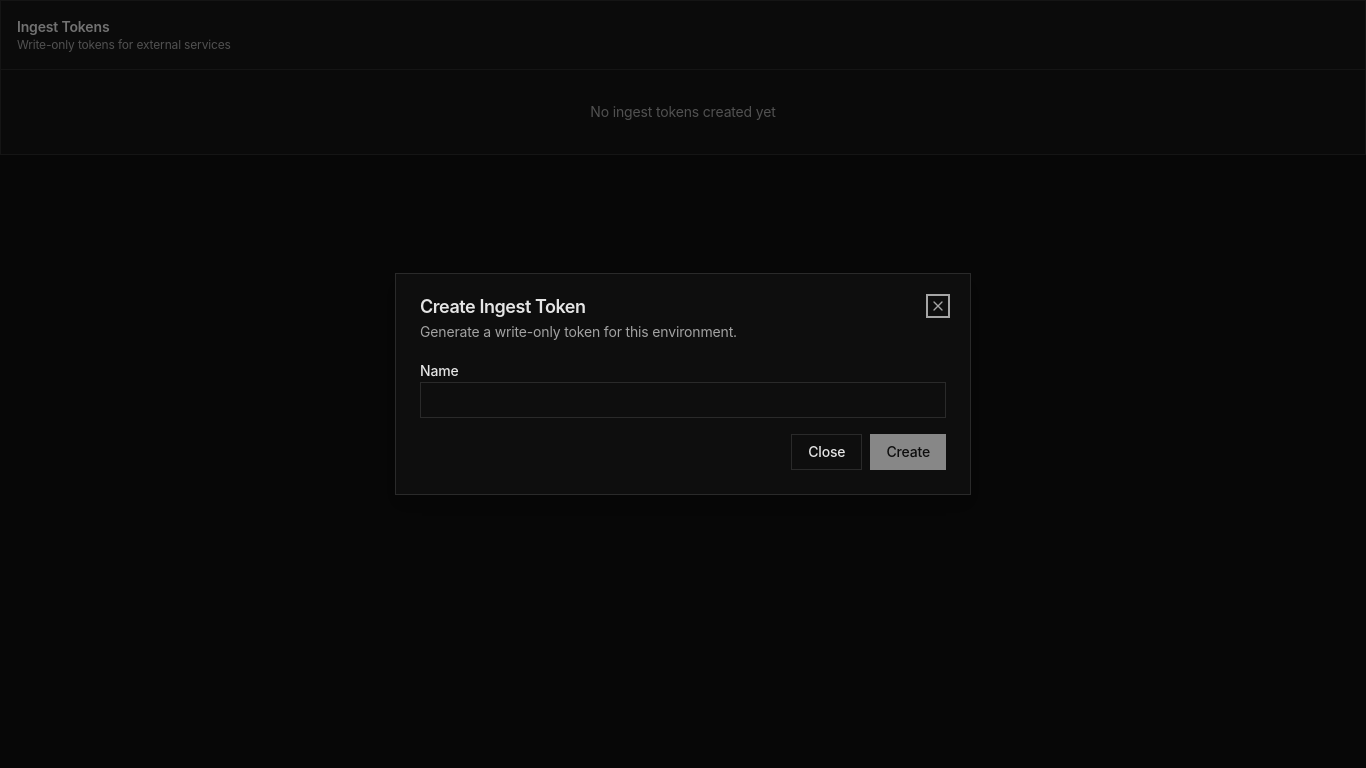
Test: Logging UI › shows a newly created ingest token once
Type "demo" into the field labelled "Name" at (683, 400), box 420,382 -> 946,418
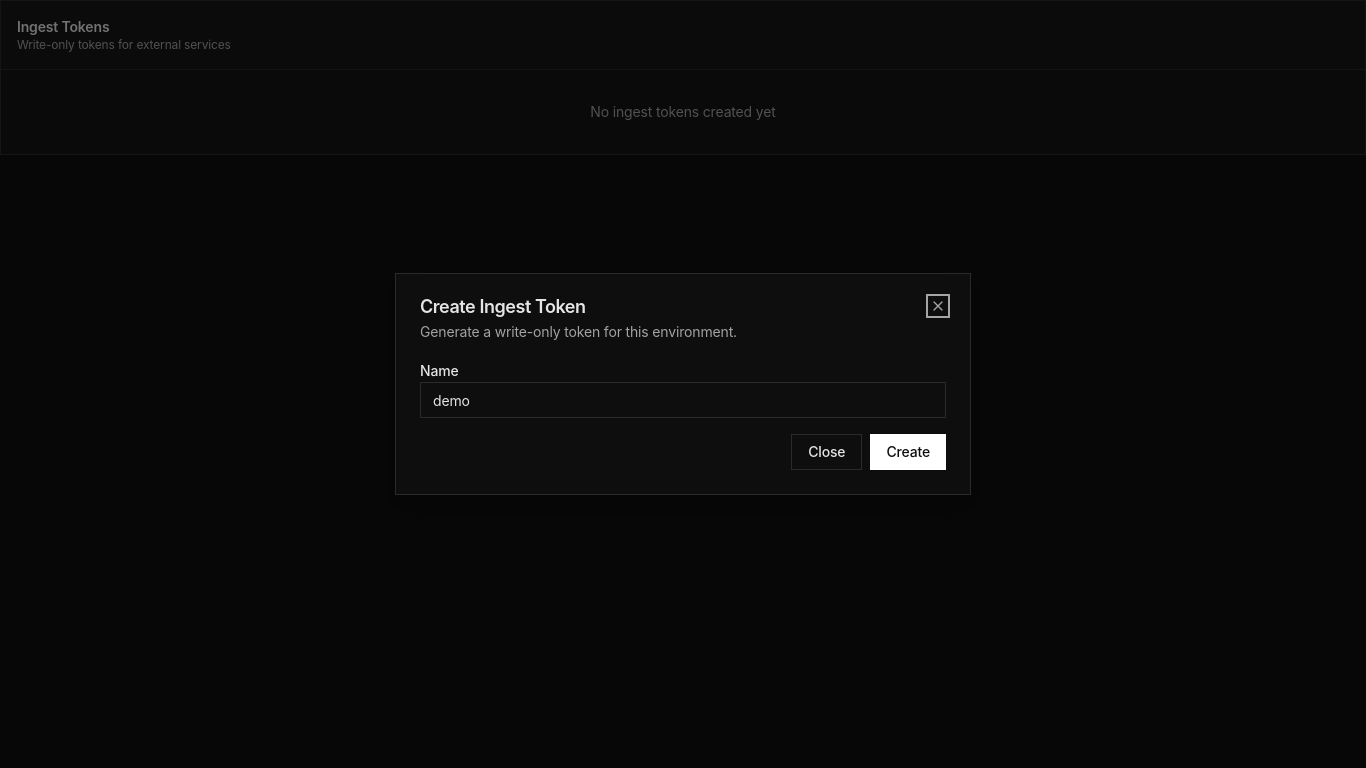
Click the button "Create" at (908, 452), box 870,434 -> 946,470
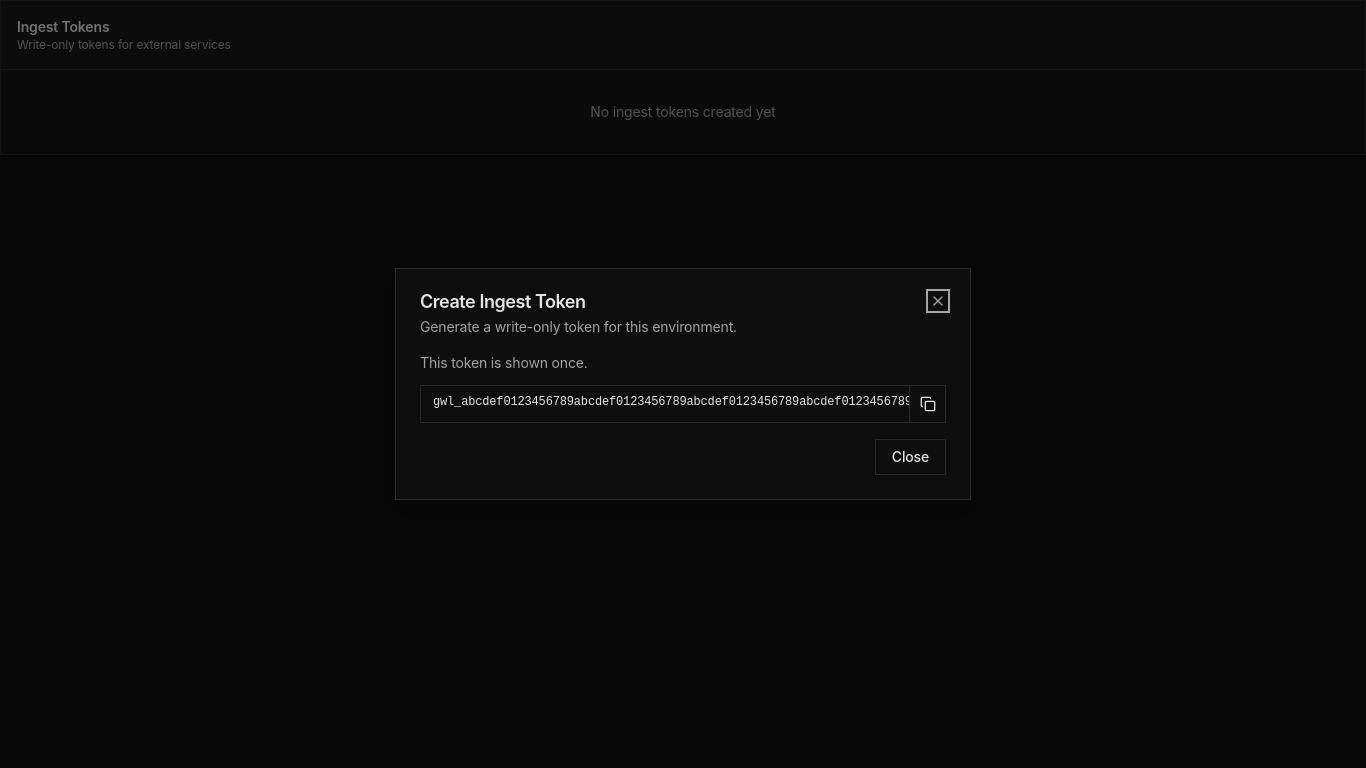
Now the text "gwl_abcdef0123456789" is shown, box 433,395 -> 912,409
